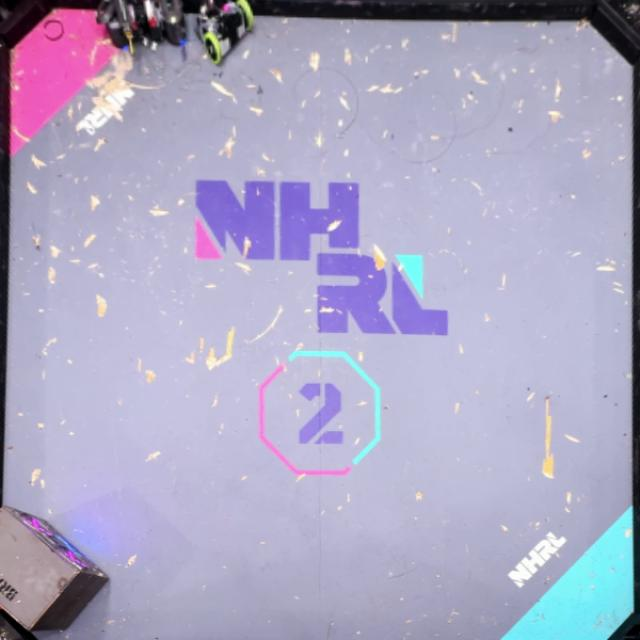housebot: (0, 504, 110, 636)
robot: (92, 0, 188, 65), (194, 0, 256, 61)
